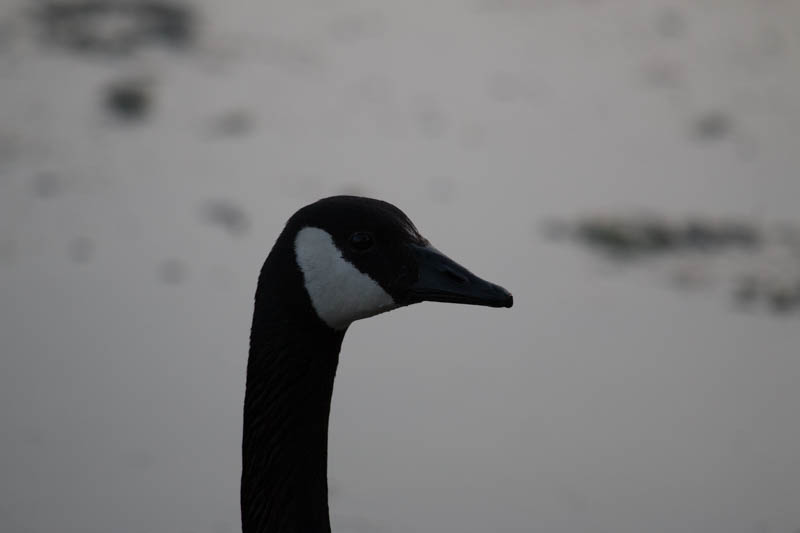goose-head: (253, 195, 513, 330)
